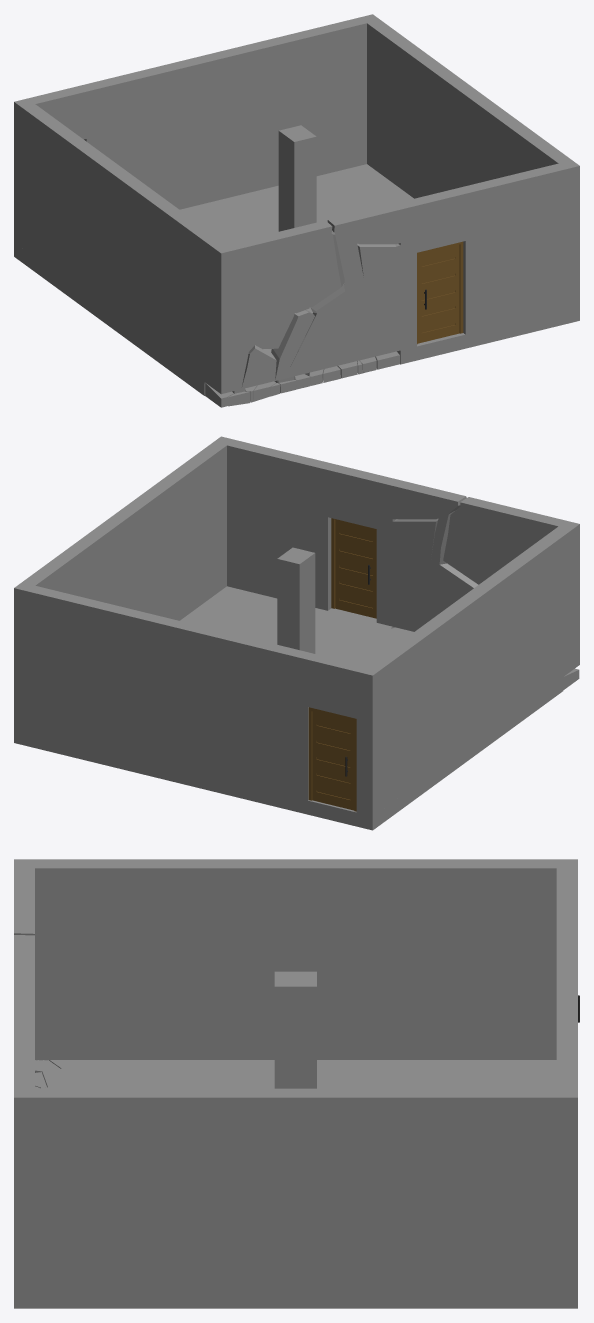
The model's file is MSH_Room_Quad_Damaged_04.fbx.
The picture shows the model from 3 angles, top to bottom: view 1: azimuth 30°, elevation 25°; view 2: azimuth 150°, elevation 25°; view 3: azimuth 270°, elevation 25°; orthographic projection. The views are drawn at different scales.
Parts seen in each view (by area): view 1: MSH_Room_Quad_Damaged_04, MSH_Door_Single010, MSH_DoorFrame_Single010; view 2: MSH_Room_Quad_Damaged_04, MSH_Door_Single009, MSH_Door_Single010, MSH_DoorFrame_Single009; view 3: MSH_Room_Quad_Damaged_04.
Boxes of the visible parts, x1,y1,x2,y2 form: MSH_Room_Quad_Damaged_04: (14, 14, 579, 407); MSH_Door_Single010: (417, 244, 459, 343); MSH_DoorFrame_Single010: (417, 241, 463, 344); MSH_Room_Quad_Damaged_04: (14, 436, 579, 830); MSH_Door_Single009: (312, 711, 354, 810); MSH_Door_Single010: (335, 519, 376, 618); MSH_DoorFrame_Single009: (308, 707, 356, 811); MSH_Room_Quad_Damaged_04: (14, 859, 577, 1308).
Bounding box in the file's own units: 315 × 132 × 316.
